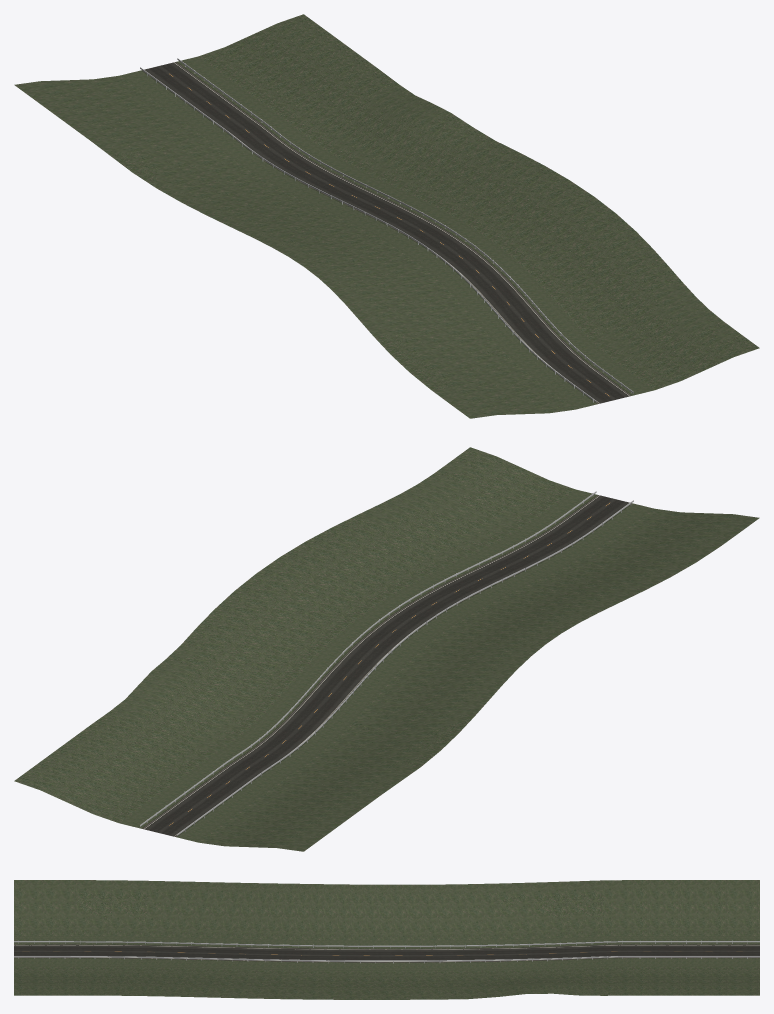
The picture shows the model from 3 angles, top to bottom: view 1: azimuth 30°, elevation 25°; view 2: azimuth 150°, elevation 25°; view 3: azimuth 270°, elevation 25°; orthographic projection. The views are drawn at different scales.
Parts seen in each view (by area): view 1: Grass, HighWay, GuardRail; view 2: Grass, HighWay, GuardRail; view 3: Grass, HighWay, GuardRail.
Boxes of the visible parts, x1,y1,x2,y2 form: Grass: [14, 14, 759, 418]; HighWay: [141, 61, 632, 404]; GuardRail: [140, 58, 633, 402]; Grass: [14, 447, 759, 851]; HighWay: [141, 494, 632, 837]; GuardRail: [140, 491, 633, 835]; Grass: [14, 880, 759, 999]; HighWay: [14, 944, 759, 962]; GuardRail: [14, 940, 759, 963].
Size of what is drawn, in the model's own units: 119 by 9.4 by 300.
